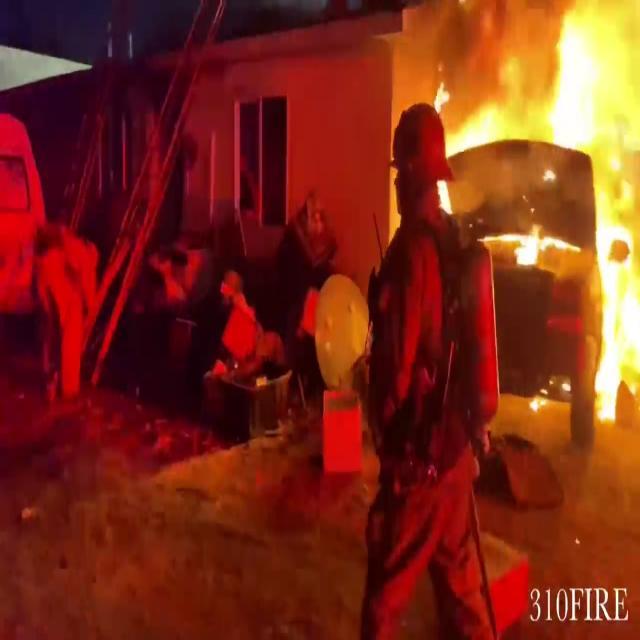Fire: (416, 0, 607, 156), (583, 0, 639, 429)
